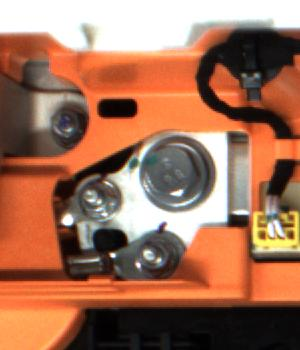nut_b: (132, 131, 219, 219)
